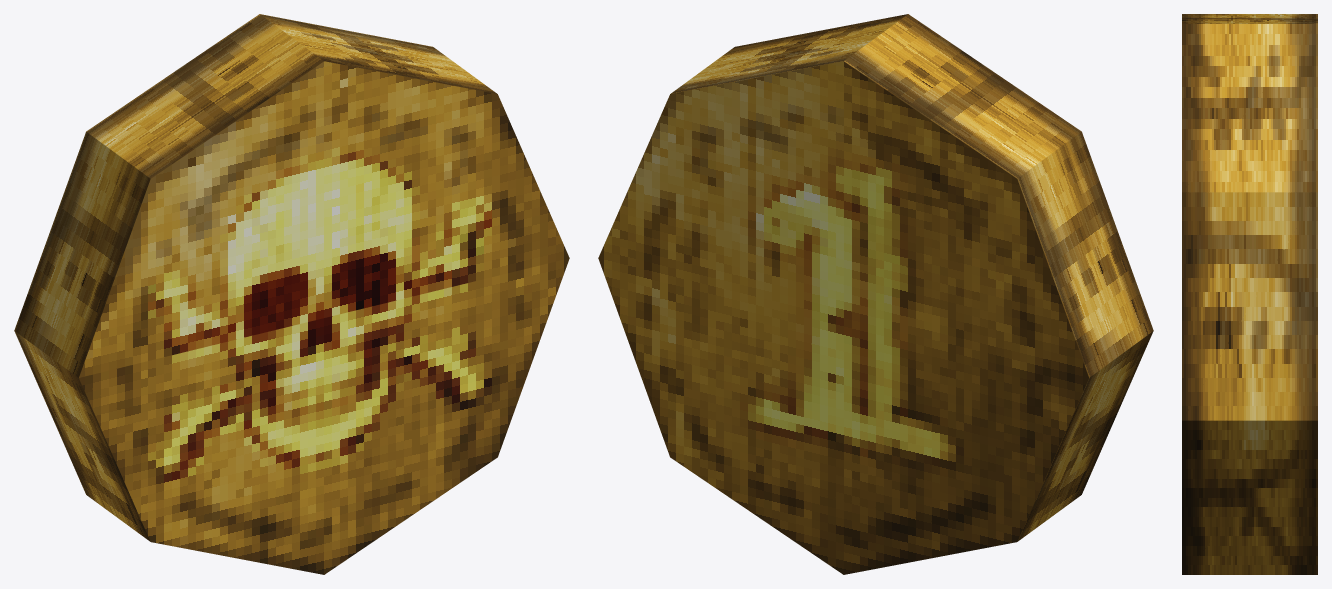
Rendered from coin.glb.
3 renders of one model, left to right at view 1: azimuth 30°, elevation 25°; view 2: azimuth 150°, elevation 25°; view 3: azimuth 270°, elevation 25°, orthographic. The views are drawn at different scales.
Parts seen in each view (by area): view 1: Cube; view 2: Cube; view 3: Cube.
Part boxes in pixels (x1,y1,x2,y2): Cube: (14, 14, 569, 574); Cube: (598, 14, 1153, 574); Cube: (1182, 14, 1317, 574).
Size of the model in its own units: 2 by 2 by 0.4556.
1 material, 1 textured.
